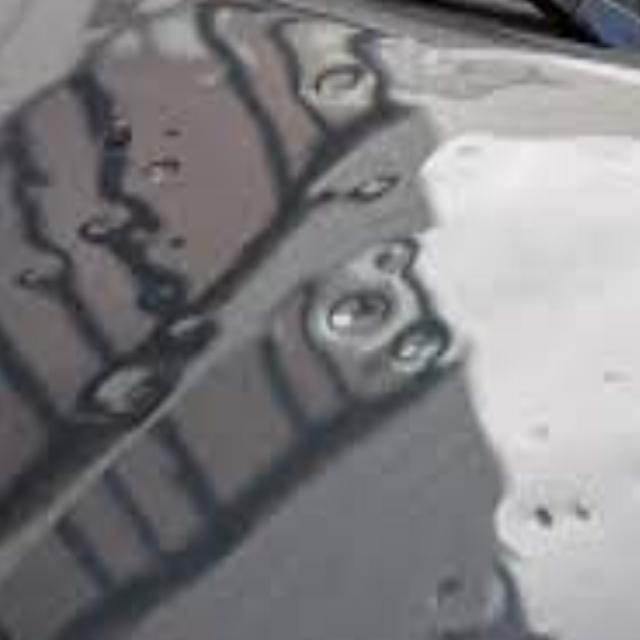dents: (422, 553, 509, 640), (71, 336, 163, 418), (309, 44, 388, 118), (520, 412, 586, 476), (142, 142, 193, 220), (515, 484, 564, 562), (4, 240, 59, 301), (328, 290, 392, 342), (127, 268, 200, 311), (167, 316, 226, 364), (99, 109, 141, 166), (588, 351, 638, 398), (570, 493, 609, 550), (73, 210, 127, 246)
